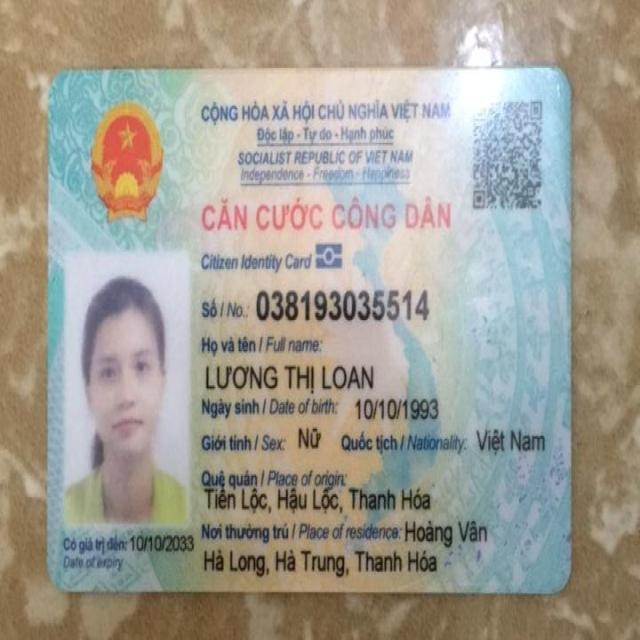bottom_left: (38, 544, 79, 604)
bottom_right: (536, 554, 580, 610)
image_person: (61, 252, 195, 526)
top_left: (32, 56, 88, 104)
top_right: (527, 54, 587, 106)
